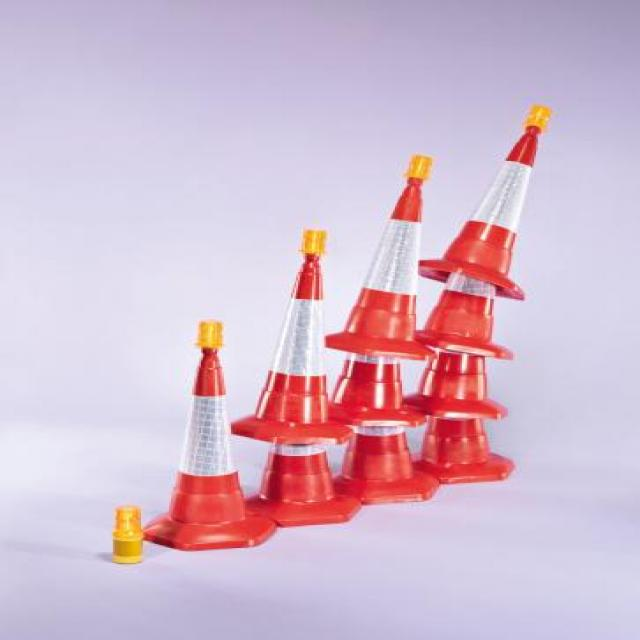Cone: (148, 323, 272, 548), (430, 104, 554, 303), (322, 156, 433, 370), (249, 229, 347, 448)
